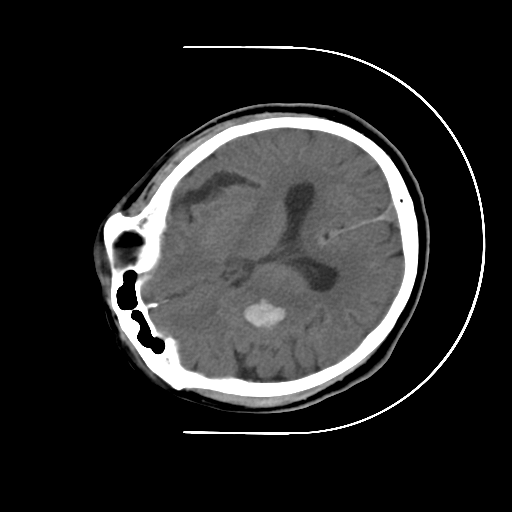a: (228, 278, 306, 337)
